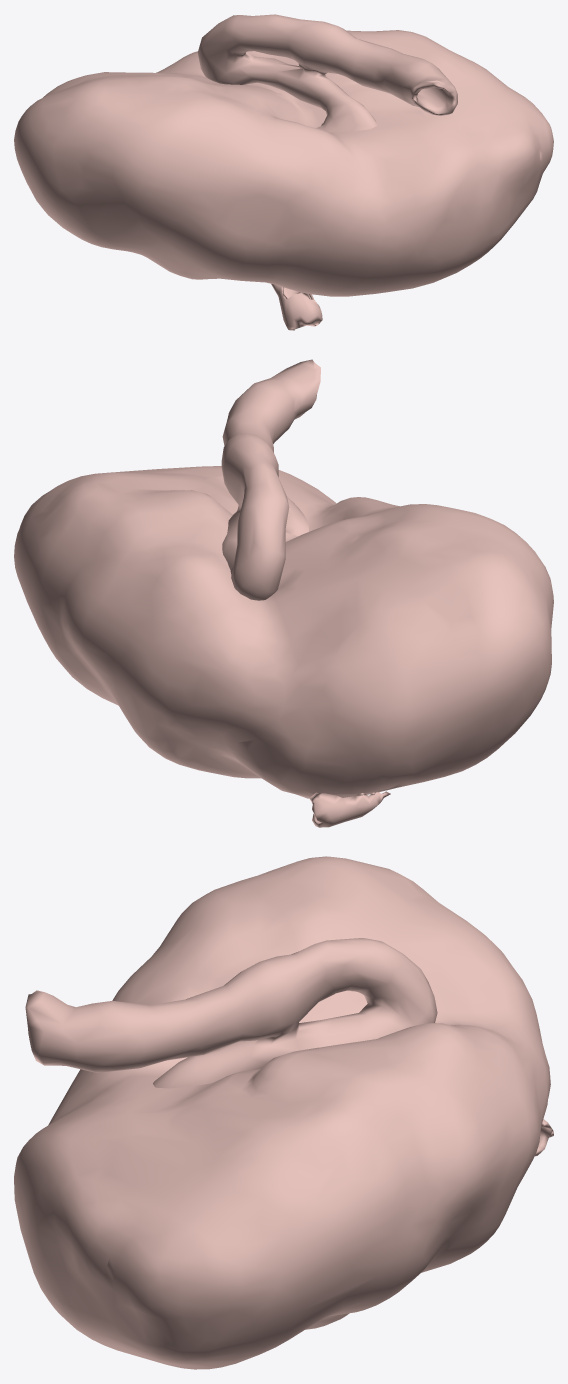
Rendered from nih_m_lymph_node-40.glb.
3 renders of one model, top to bottom at view 1: azimuth 30°, elevation 25°; view 2: azimuth 150°, elevation 25°; view 3: azimuth 270°, elevation 25°, orthographic. The views are drawn at different scales.
Parts seen in each view (by area): view 1: Yao_capsule_of_lymph_node, Yao_efferent_lymph_node, Yao_afferent_lymphatic_vessel; view 2: Yao_capsule_of_lymph_node, Yao_efferent_lymph_node, Yao_afferent_lymphatic_vessel; view 3: Yao_capsule_of_lymph_node, Yao_efferent_lymph_node.
Part boxes in pixels (box(x1,y1,x2,y2)): Yao_capsule_of_lymph_node: box(14, 30, 553, 296); Yao_efferent_lymph_node: box(197, 14, 457, 132); Yao_afferent_lymphatic_vessel: box(271, 284, 322, 330); Yao_capsule_of_lymph_node: box(14, 466, 553, 798); Yao_efferent_lymph_node: box(221, 359, 320, 600); Yao_afferent_lymphatic_vessel: box(309, 791, 390, 827); Yao_capsule_of_lymph_node: box(14, 856, 550, 1369); Yao_efferent_lymph_node: box(25, 938, 437, 1088).
Size of the model in its own units: 0.0183 by 0.0106 by 0.013.
